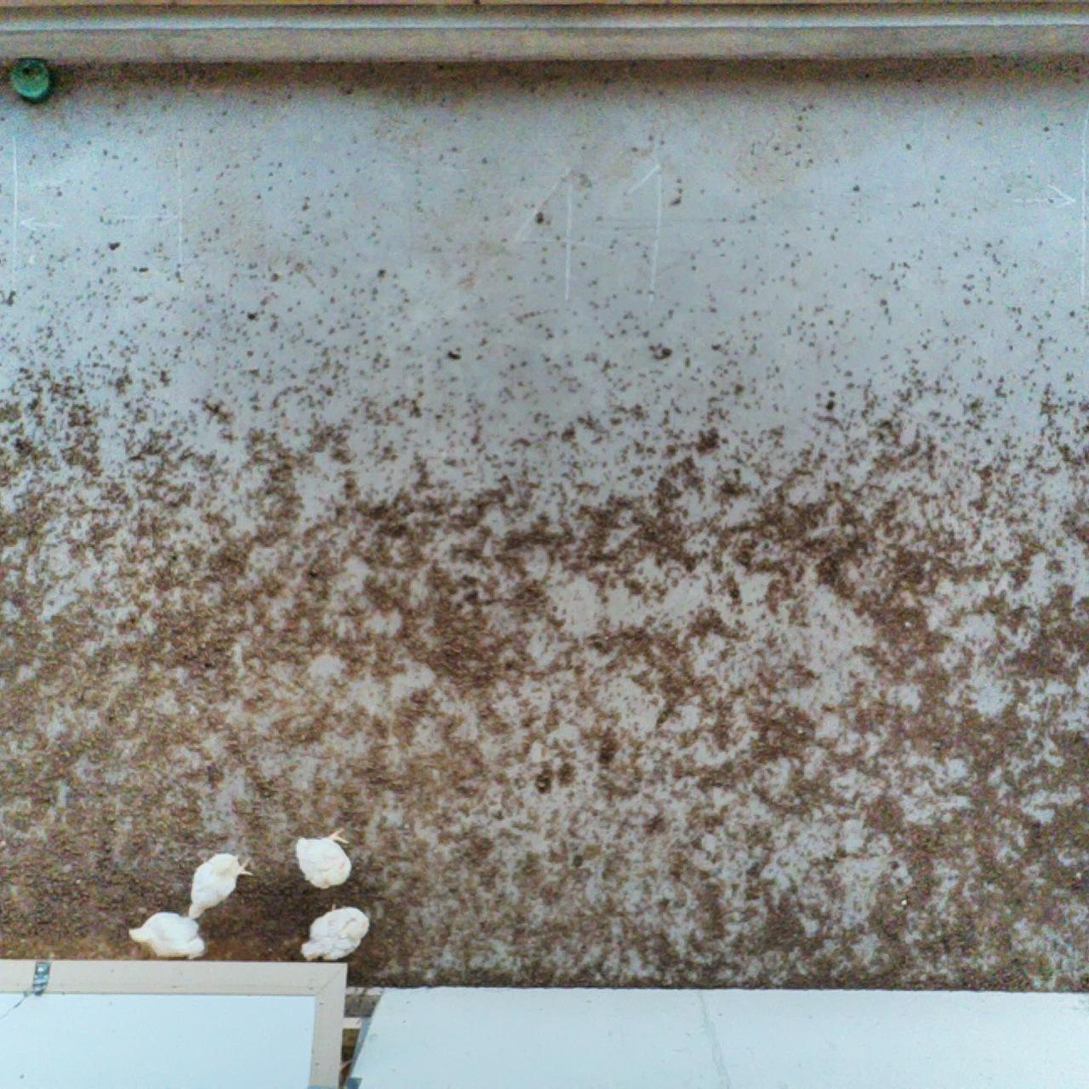chicken: (186, 850, 255, 924), (299, 899, 373, 964), (292, 827, 357, 893), (126, 909, 208, 960)
